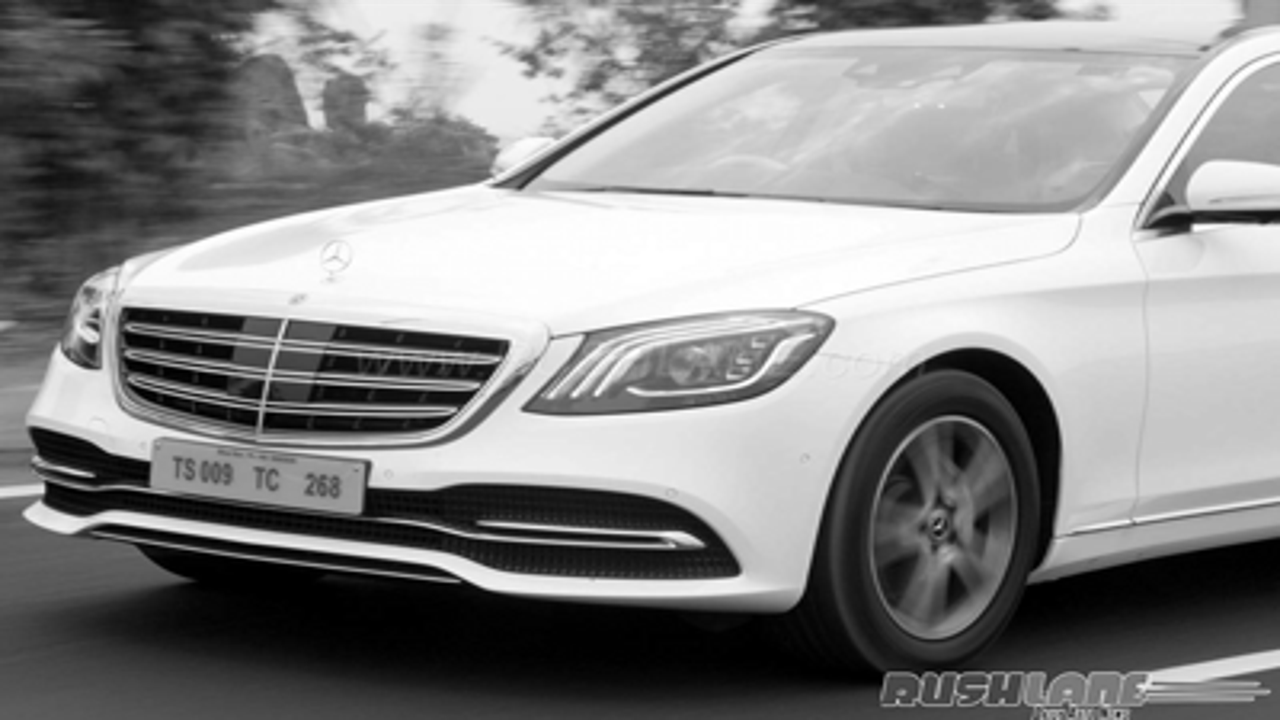license: (142, 432, 378, 526)
